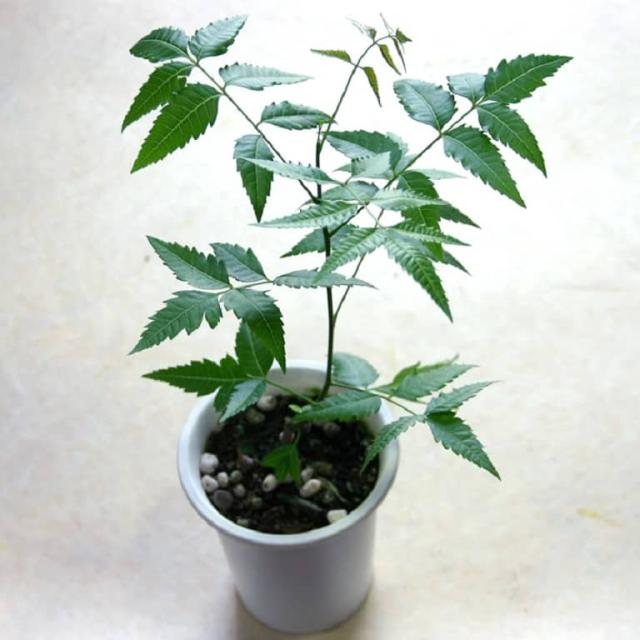Medicinal-Neem: (107, 9, 577, 481)
